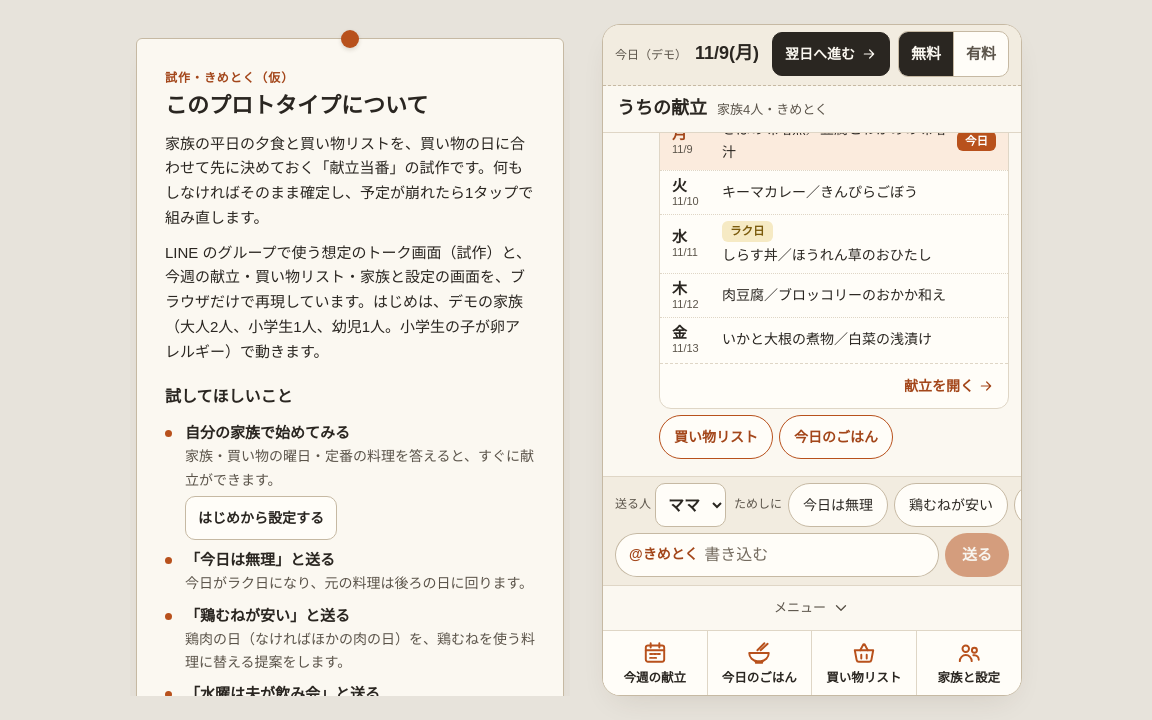
it: 画面での AI の読み取り › not_granted で失敗したらルールで処理し、それ以降は AI を呼ばない
The width and height of the screenshot is (1152, 720).
(page scrolled)
Type "ふわふわのやつ" into the field named "きめとくへの書き込み" at (815, 555), box [704, 533, 925, 577]
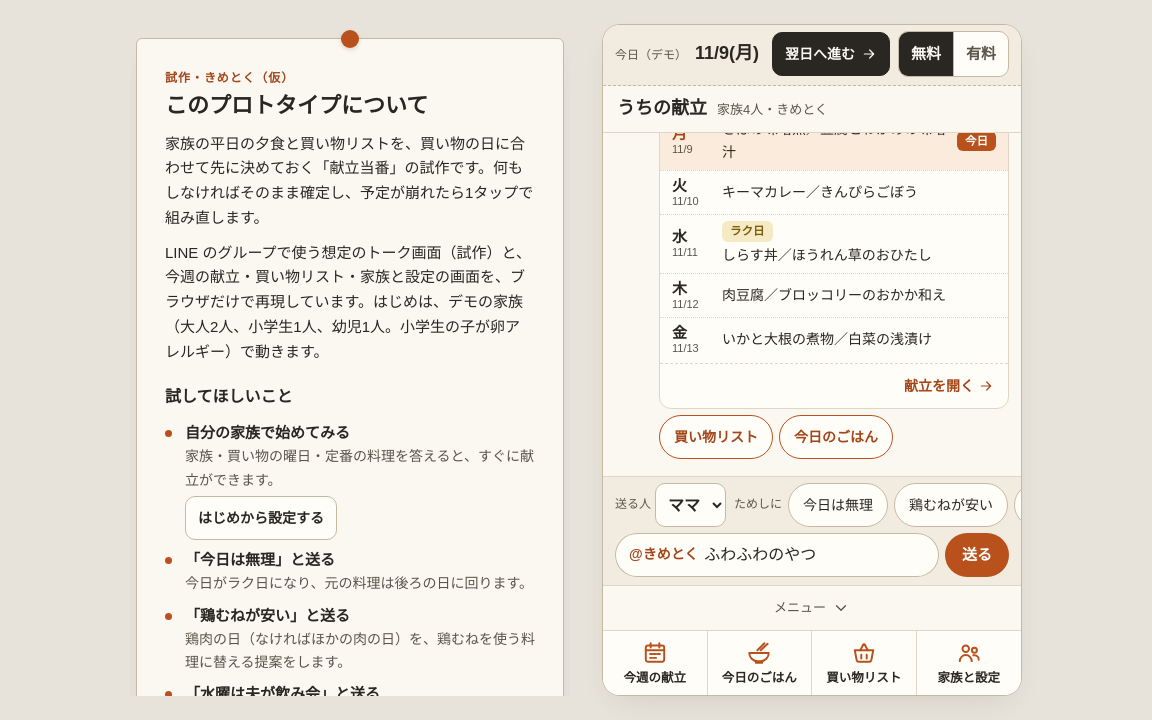
Click the button "送る" at (977, 555), box [945, 533, 1009, 577]
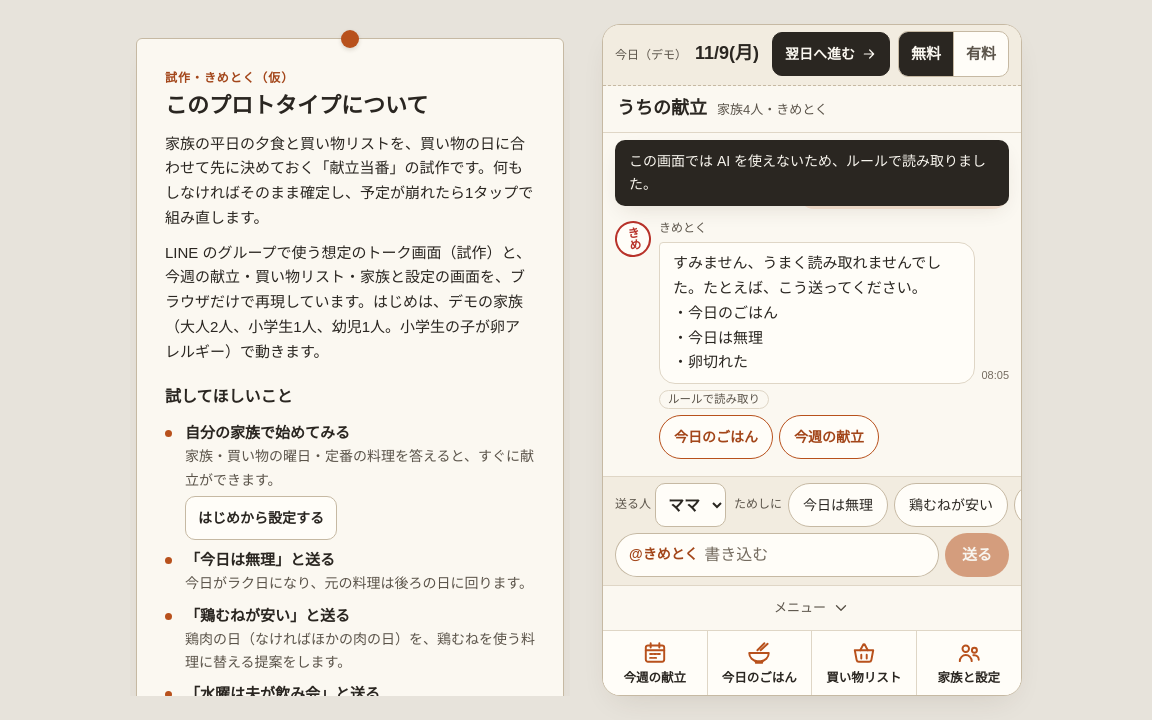
Now the text "ルールで読み取り" is shown once, box [659, 390, 769, 409]
Now the text "すみません、うまく読み取れませんでした。たとえば、こう送ってください。 ・今日のごはん ・今日は無理 ・卵切れた" is shown, box [659, 242, 976, 384]
Type "なんかいい感じにして" into the field named "きめとくへの書き込み" at (815, 555), box [704, 533, 925, 577]
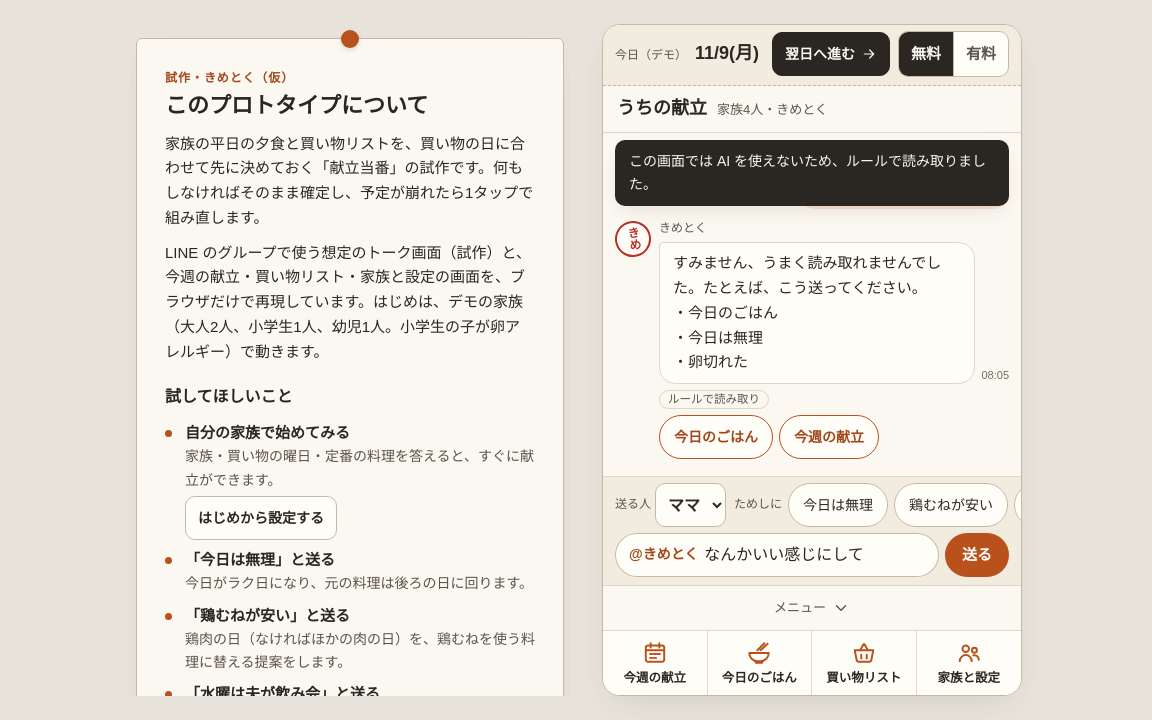
Click the button "送る" at (977, 555), box [945, 533, 1009, 577]
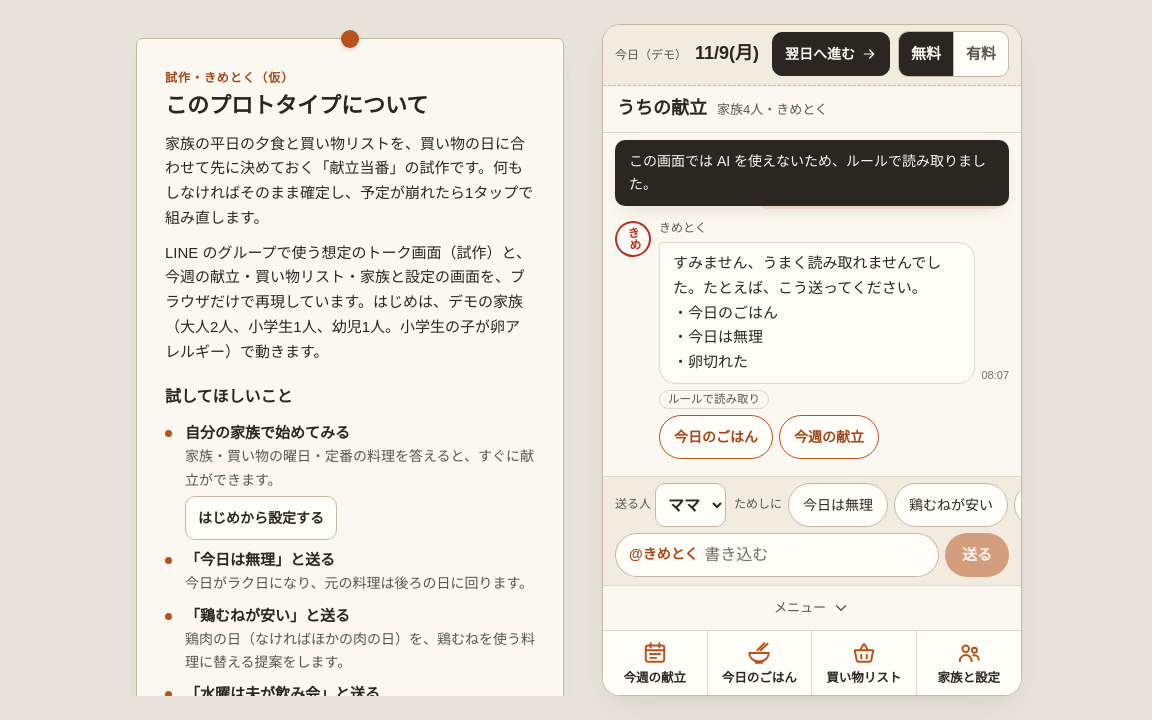
Now the text "ルールで読み取り" is shown 2 times
Click the button "家族と設定" at (969, 663), box [916, 631, 1021, 695]
(page scrolled)
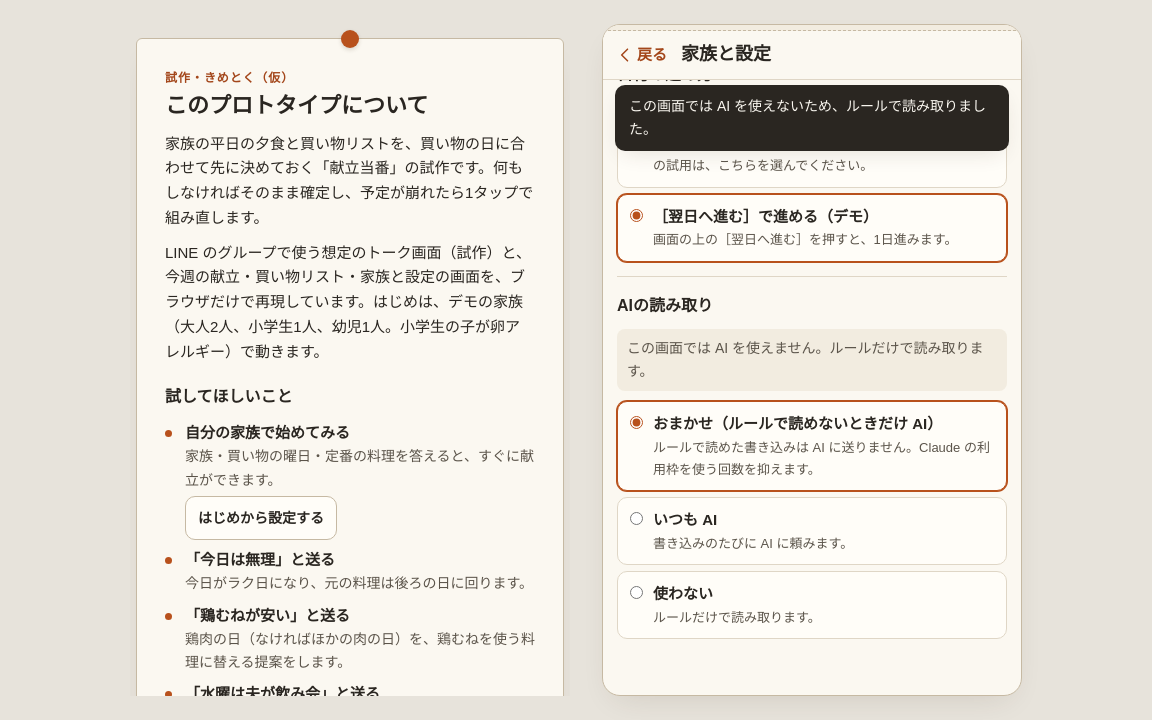
Now the text with test id "ai-status" shows "この画面では AI を使えません", box [627, 340, 984, 379]
